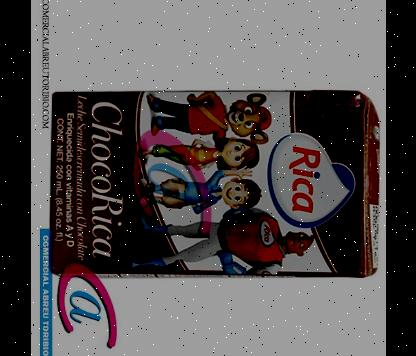Others: (44, 82, 384, 284)
